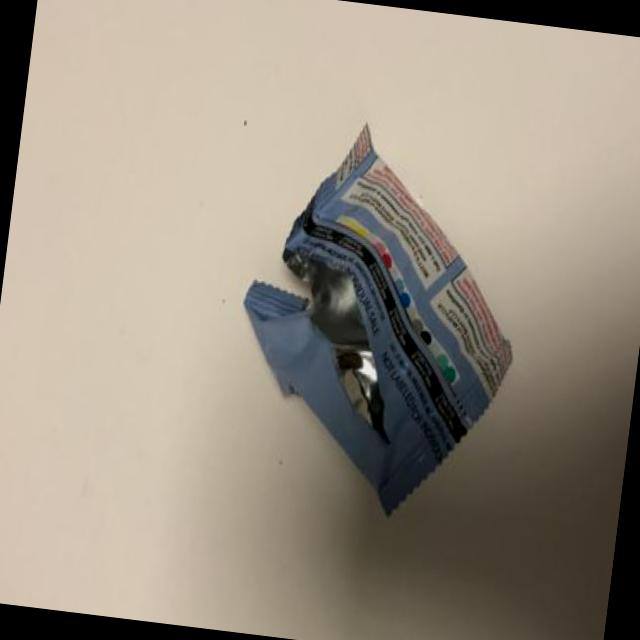giay_goi: (244, 125, 512, 514)
